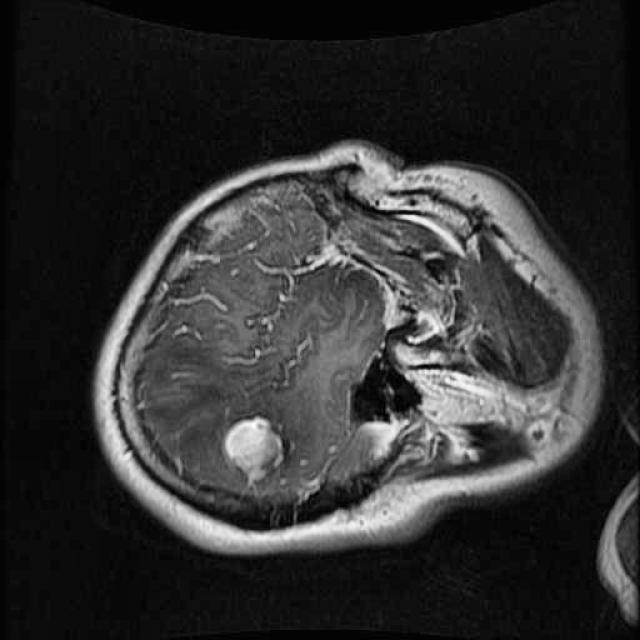Tumor: (210, 406, 304, 502)
